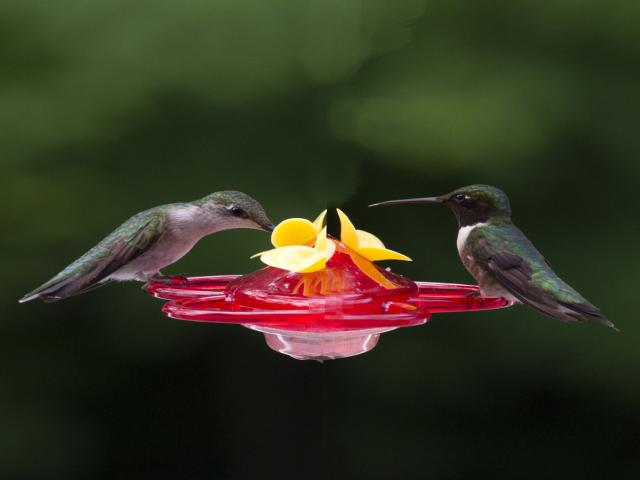Bird: (374, 182, 620, 332), (14, 185, 286, 308)
